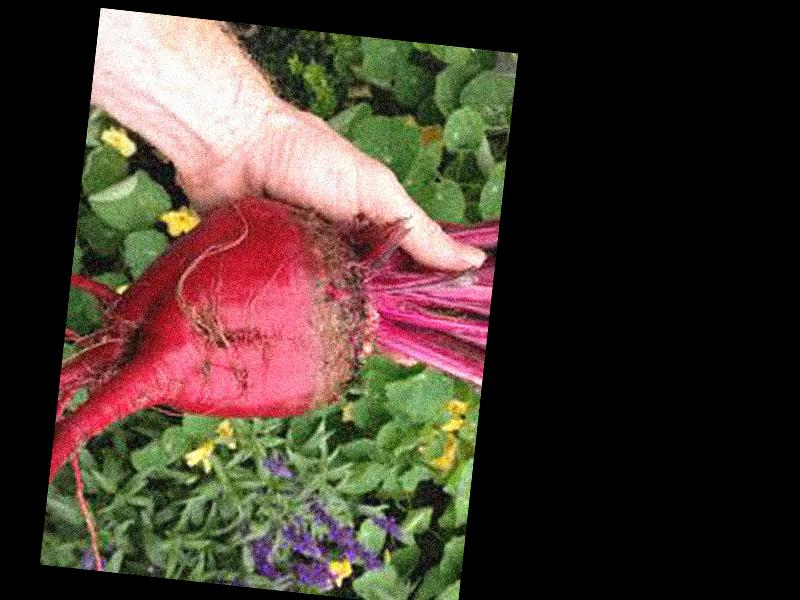Beet: (49, 178, 497, 520)
